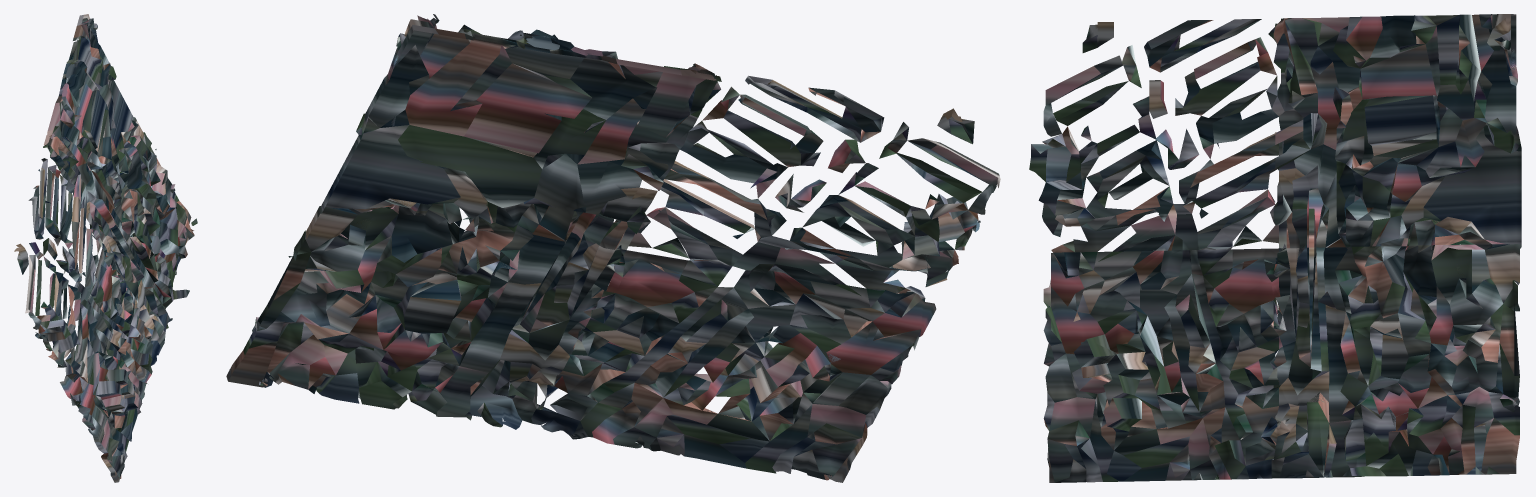
The picture shows the model from 3 angles, left to right: view 1: azimuth 30°, elevation 25°; view 2: azimuth 150°, elevation 25°; view 3: azimuth 270°, elevation 25°; orthographic projection. The views are drawn at different scales.
Visible parts, largest first — view 1: node_3043627270436153_mesh0, node_3043627270436153_mesh1; view 2: node_3043627270436153_mesh0, node_3043627270436153_mesh1; view 3: node_3043627270436153_mesh0, node_3043627270436153_mesh1.
Boxes of the visible parts, box(x1,y1,x2,y2) form: node_3043627270436153_mesh0: box(14, 14, 197, 482); node_3043627270436153_mesh1: box(17, 18, 192, 423); node_3043627270436153_mesh0: box(226, 15, 1000, 482); node_3043627270436153_mesh1: box(229, 14, 976, 455); node_3043627270436153_mesh0: box(1029, 14, 1521, 482); node_3043627270436153_mesh1: box(1031, 14, 1521, 480).
Size of the model in its own units: 552 by 584 by 467.
2 materials, 2 textured.
